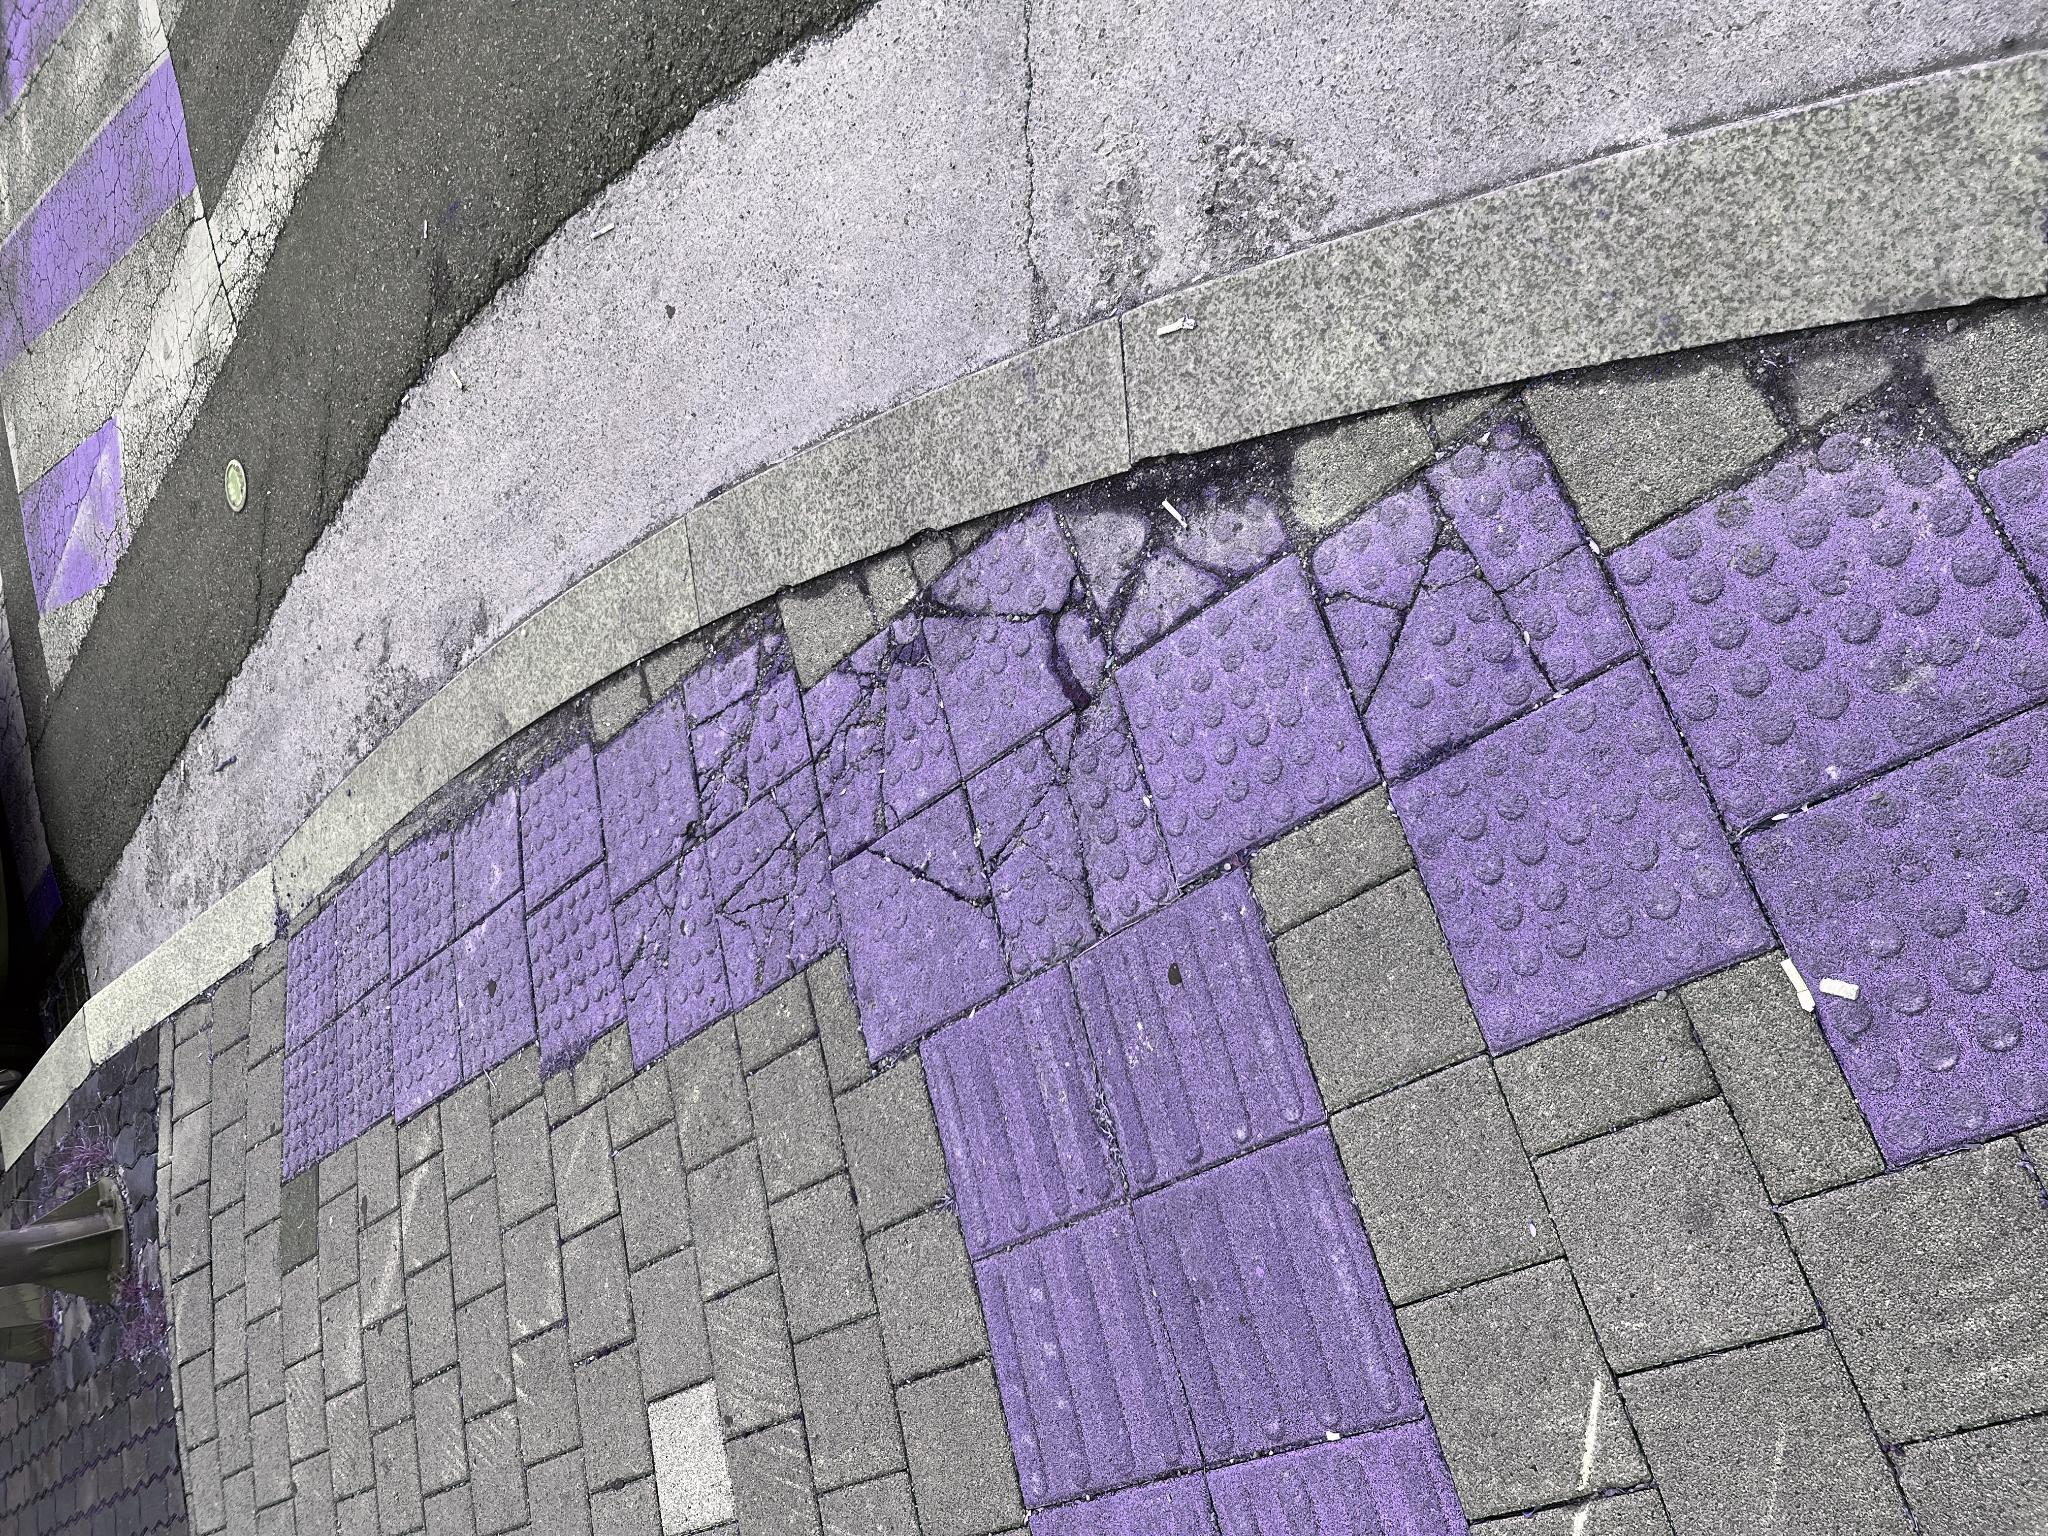Stop block broken: (760, 1305, 1124, 1536), (558, 968, 842, 1168), (761, 920, 1037, 1113), (476, 833, 747, 1005), (677, 803, 930, 957), (529, 708, 769, 836), (703, 681, 932, 810), (469, 613, 692, 729)
Stop block normal: (651, 1113, 982, 1376), (456, 453, 642, 536)
